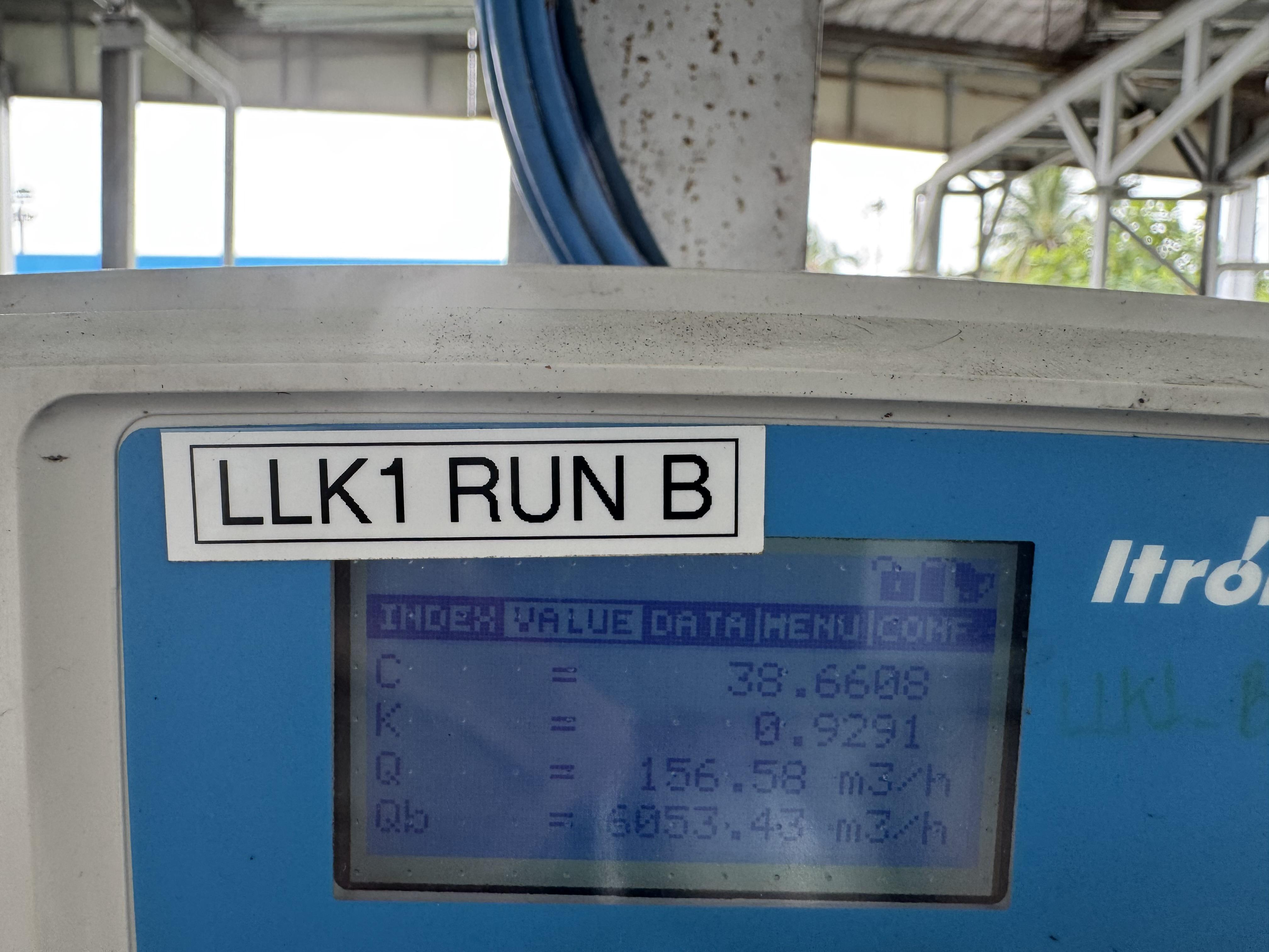digital_screen: (327, 536, 1036, 907)
